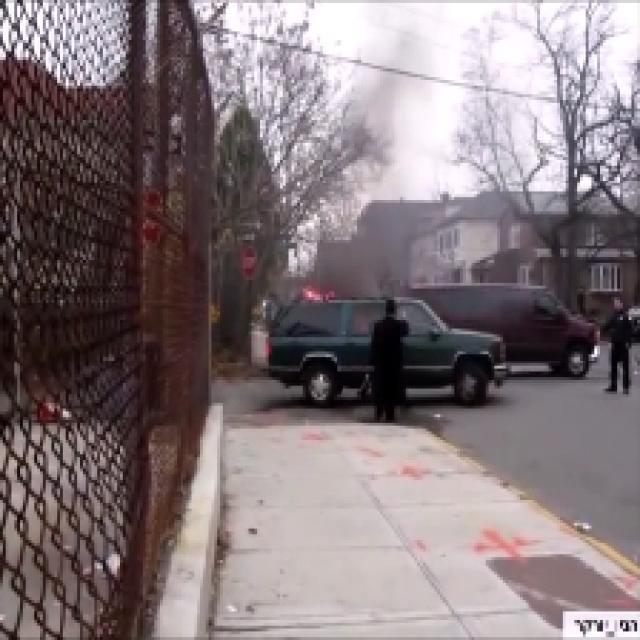Smoke: (350, 30, 448, 196)
